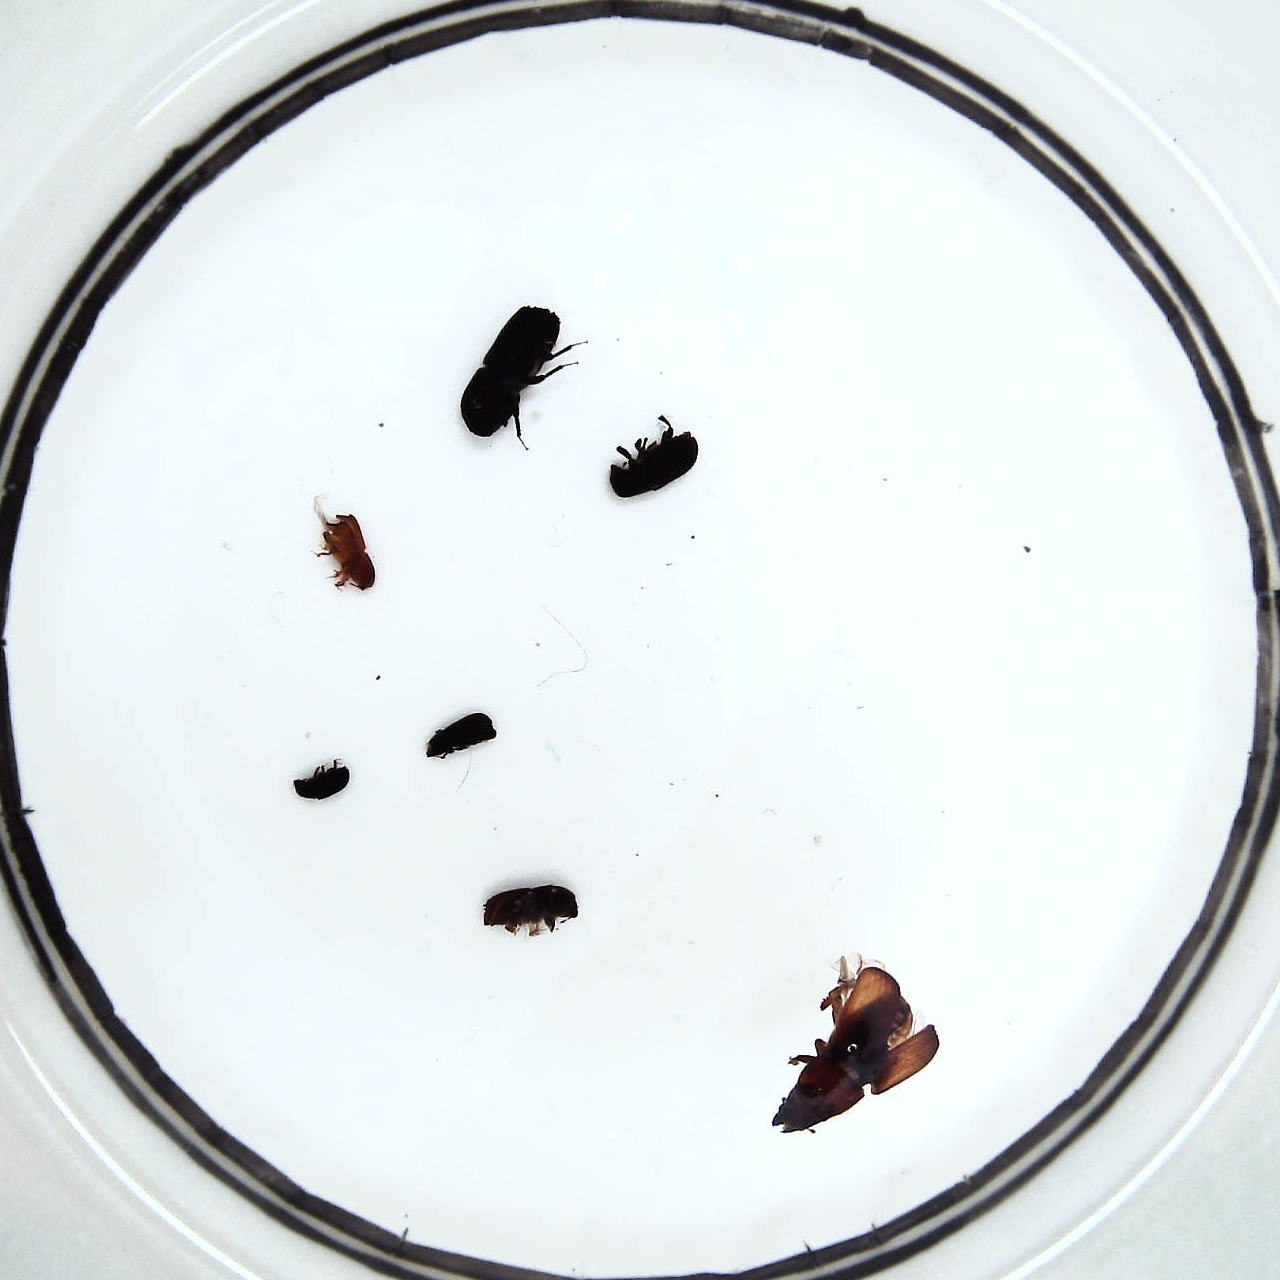Boerner: (457, 304, 565, 443)
Leconte: (768, 964, 939, 1129)
Linnaeus: (483, 881, 580, 932)
acuminatus: (322, 510, 377, 594)
armandi: (608, 425, 701, 501)
coleoptera: (429, 714, 496, 760), (292, 765, 350, 801)
